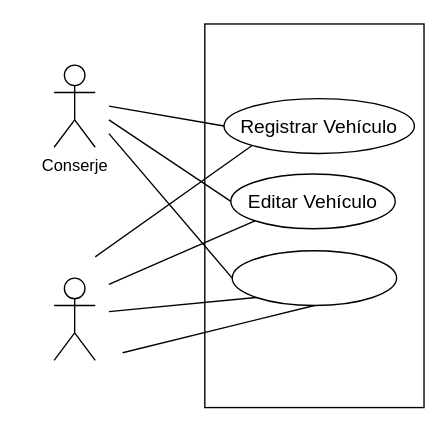
The diagram is 448 pixels wide and 432 high, and some of its shapes have lost their labels. The shapes that lost their labels are listed below. From the top down, each one's box as (x1, y1, x2, y2) in pixels, then its label:
(231, 249, 397, 306): Borrar Vehículo
(53, 277, 95, 360): Administrador
